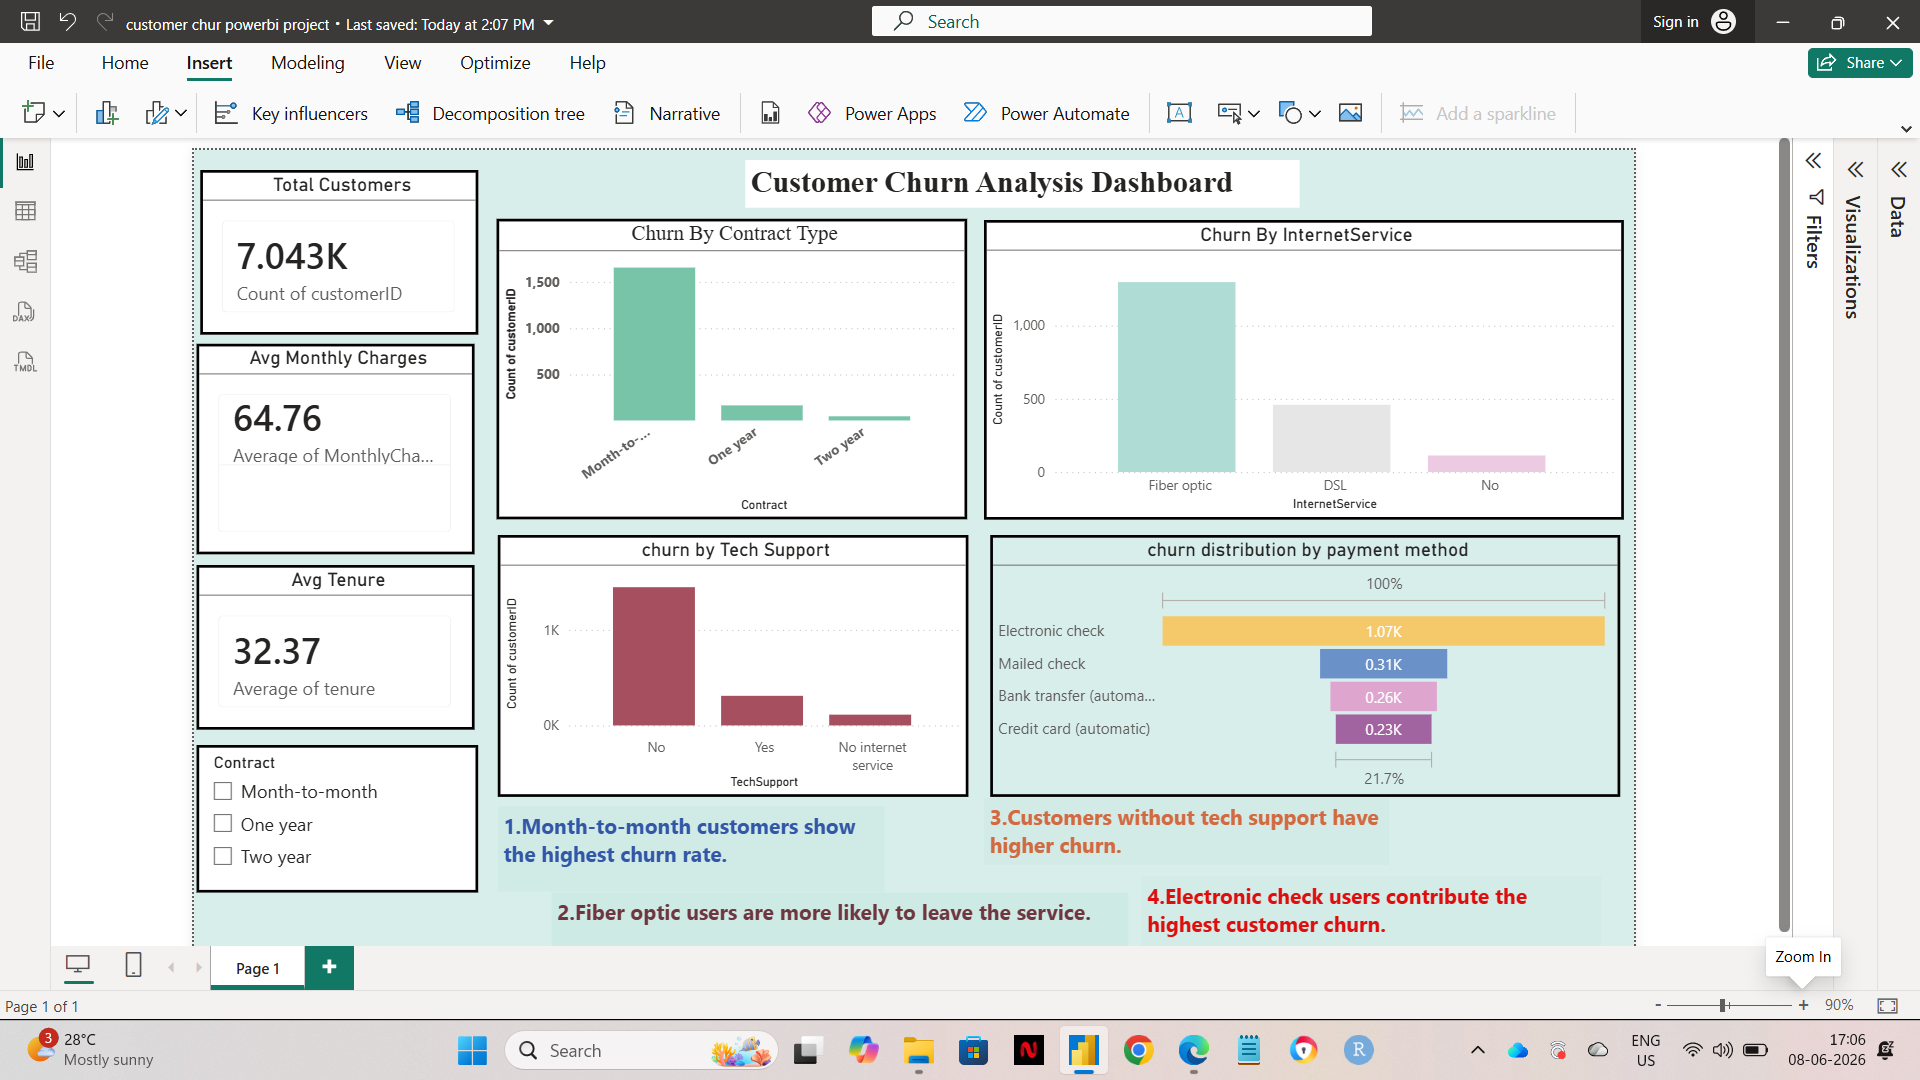

What the dashboard file says about the page in this screenshot:
{"tool":"powerbi","page":{"name":"Page 1","canvas":[1280,720],"ordinal":0},"visuals":[{"type":"clusteredColumnChart","title":"Churn By Contract Type","fields":{"Category":["WA_Fn-UseC_-Telco-Customer-Chur.Contract"],"Y":["CountNonNull(WA_Fn-UseC_-Telco-Customer-Chur.customerID)"]},"box":[268.8,61.2,418.8,267.5],"z":0},{"type":"clusteredColumnChart","title":"Churn By InternetService","fields":{"Y":["CountNonNull(WA_Fn-UseC_-Telco-Customer-Chur.customerID)"],"Category":["WA_Fn-UseC_-Telco-Customer-Chur.InternetService"]},"box":[702.5,62.5,568.8,266.2],"z":1},{"type":"clusteredColumnChart","title":"churn by Tech Support","fields":{"Category":["WA_Fn-UseC_-Telco-Customer-Chur.TechSupport"],"Y":["CountNonNull(WA_Fn-UseC_-Telco-Customer-Chur.customerID)"]},"box":[270,342.5,418.8,232.5],"z":3},{"type":"funnel","title":"churn distribution by payment method","fields":{"Category":["WA_Fn-UseC_-Telco-Customer-Chur.PaymentMethod"],"Y":["CountNonNull(WA_Fn-UseC_-Telco-Customer-Chur.customerID)"]},"box":[707.5,342.5,560,232.5],"z":5},{"type":"cardVisual","title":"Avg Monthly Charges","fields":{"Data":["Avg(WA_Fn-UseC_-Telco-Customer-Chur.MonthlyCharges)"]},"box":[2.5,172.5,247.5,187.5],"z":6},{"type":"cardVisual","title":"Avg  Tenure","fields":{"Data":["Avg(WA_Fn-UseC_-Telco-Customer-Chur.tenure)"]},"box":[2.5,368.8,247.5,146.2],"z":7},{"type":"cardVisual","title":"Total Customers","fields":{"Data":["CountNonNull(WA_Fn-UseC_-Telco-Customer-Chur.customerID)"]},"box":[5,17.5,247.5,146.2],"z":8},{"type":"textbox","box":[490,8.8,492.5,42.5],"z":9},{"type":"slicer","fields":{"Values":["WA_Fn-UseC_-Telco-Customer-Chur.Contract"]},"box":[2.5,528.8,250,131.2],"z":10},{"type":"textbox","box":[270,583.8,343.8,76.2],"z":11},{"type":"textbox","box":[317.5,660,512.5,60],"z":12},{"type":"textbox","box":[702.5,575,360,60],"z":13},{"type":"textbox","box":[842.5,645,408.8,62.5],"z":14}]}

Visuals, with their boxes on the page's 1280x720 design canvas (x1, y1, x2, y2). These are canvas units, not pixel positions in the 1920x1080 screenshot, which may show the page scaled, cropped or inside an application window:
"Churn By Contract Type" clusteredColumnChart: select_region(269, 61, 688, 329)
"Churn By InternetService" clusteredColumnChart: select_region(702, 62, 1271, 329)
"churn by Tech Support" clusteredColumnChart: select_region(270, 342, 689, 575)
"churn distribution by payment method" funnel: select_region(708, 342, 1268, 575)
"Avg Monthly Charges" cardVisual: select_region(2, 172, 250, 360)
"Avg  Tenure" cardVisual: select_region(2, 369, 250, 515)
"Total Customers" cardVisual: select_region(5, 18, 252, 164)
textbox: select_region(490, 9, 982, 51)
slicer - WA_Fn-UseC_-Telco-Customer-Chur.Contract: select_region(2, 529, 252, 660)
textbox: select_region(270, 584, 614, 660)
textbox: select_region(318, 660, 830, 720)
textbox: select_region(702, 575, 1062, 635)
textbox: select_region(842, 645, 1251, 708)
